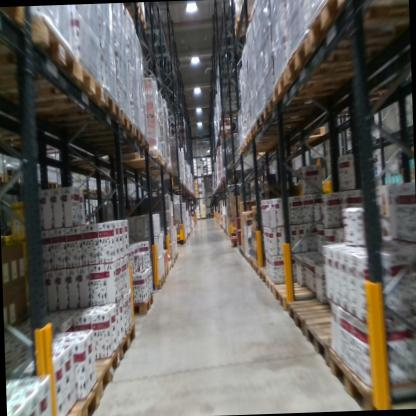pallet: (285, 17, 406, 84), (0, 13, 85, 90), (0, 59, 109, 116), (325, 345, 416, 410), (305, 0, 409, 54), (271, 59, 377, 108), (263, 78, 368, 122), (38, 84, 125, 129), (303, 314, 359, 372), (57, 107, 138, 141), (84, 344, 122, 408), (285, 299, 337, 339), (72, 123, 148, 150), (56, 375, 106, 416), (273, 280, 326, 314), (82, 132, 154, 156), (254, 106, 296, 135), (118, 323, 139, 369), (0, 9, 30, 41), (110, 150, 162, 166), (290, 124, 325, 146), (264, 275, 296, 299), (128, 294, 156, 317), (249, 120, 281, 140), (216, 109, 241, 127), (257, 264, 276, 287), (214, 125, 239, 141), (241, 209, 262, 223), (151, 273, 167, 291), (6, 172, 22, 186), (77, 187, 96, 197), (46, 179, 60, 189), (93, 187, 107, 197), (250, 255, 259, 269), (163, 268, 170, 283), (0, 173, 7, 186), (253, 260, 259, 275), (166, 263, 172, 272)
